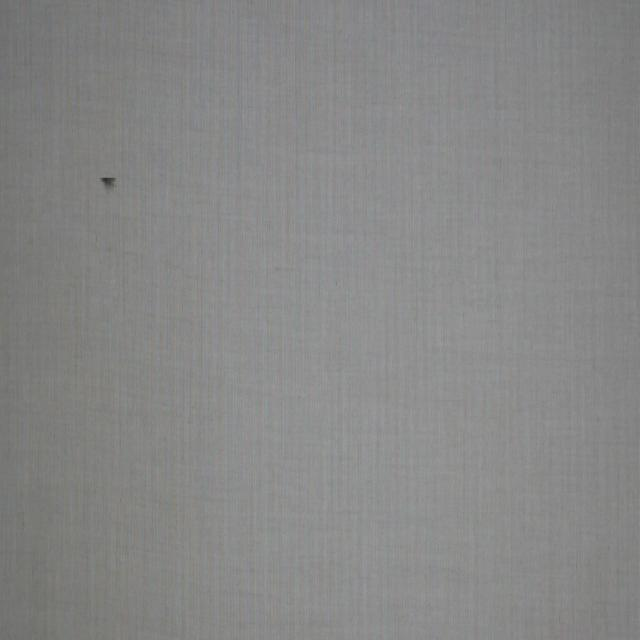dirty: (99, 174, 119, 194)
